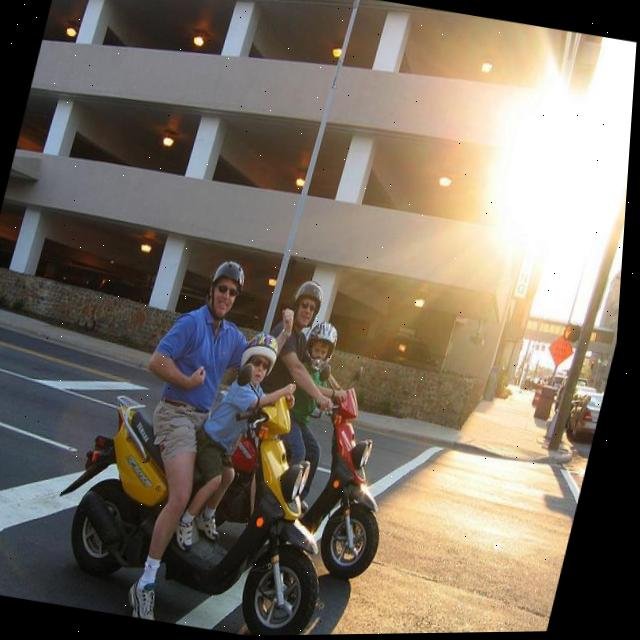motorcycle: (40, 362, 365, 639), (213, 363, 423, 583)
